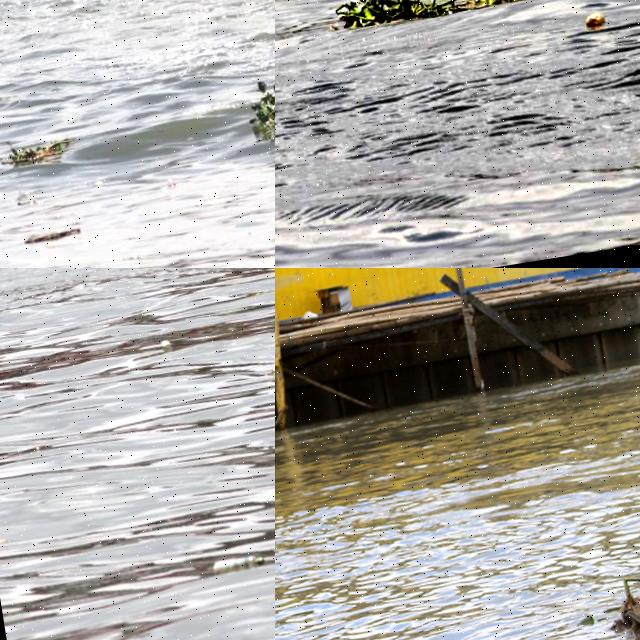water-hyacinth: (314, 1, 506, 26), (240, 70, 279, 141), (2, 132, 78, 168)
